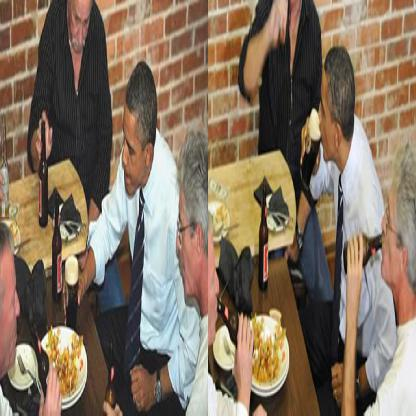face: (177, 182, 197, 300), (382, 171, 401, 285), (4, 257, 21, 366), (123, 106, 143, 196), (204, 236, 220, 342), (319, 63, 335, 160), (70, 1, 93, 52)
